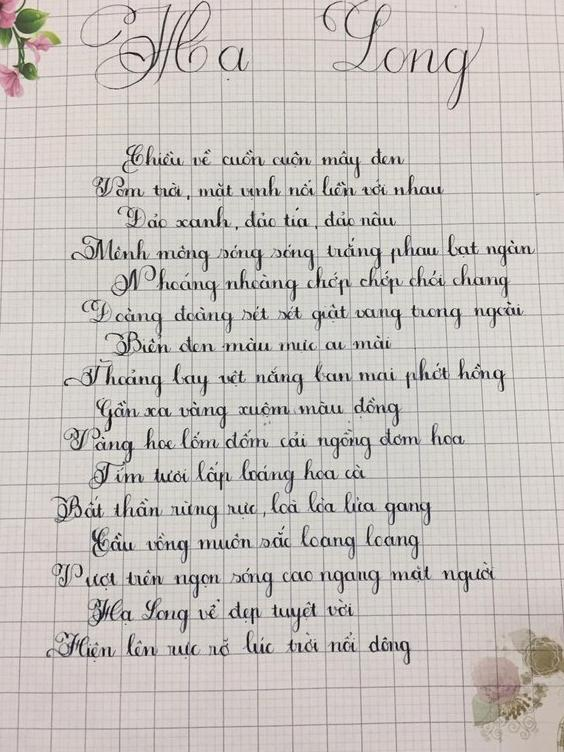text: (76, 0, 487, 114), (48, 557, 502, 603), (67, 231, 538, 274), (61, 355, 509, 400), (79, 295, 527, 337), (62, 423, 466, 467), (107, 262, 513, 303), (41, 627, 414, 670), (49, 490, 432, 530), (86, 522, 424, 562), (93, 394, 405, 435), (85, 594, 357, 635), (92, 172, 446, 203), (87, 457, 368, 495), (119, 140, 406, 176), (115, 203, 399, 234), (102, 330, 395, 360)
